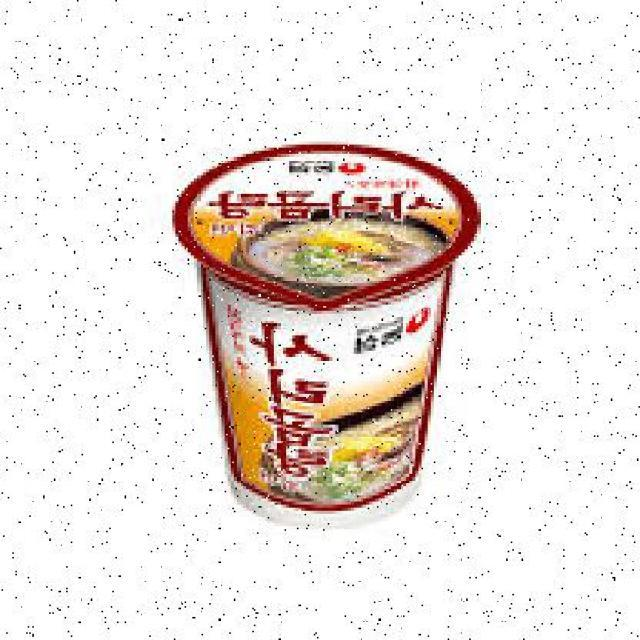Miscellaneous: (170, 137, 496, 546)
